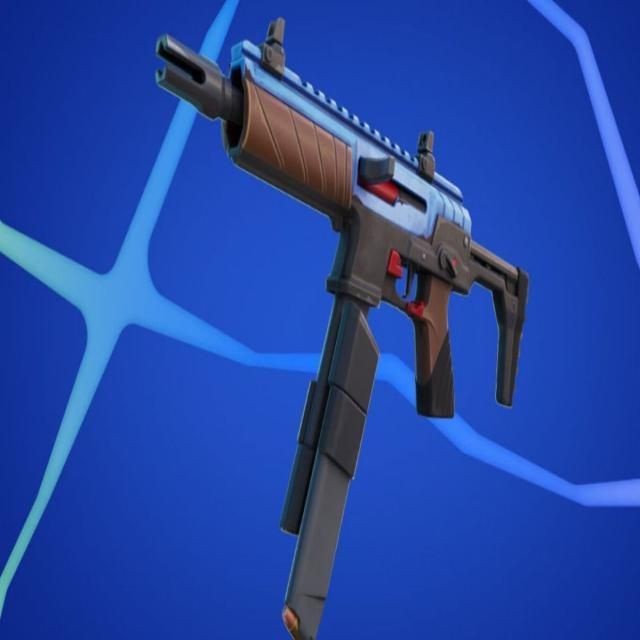smg: (153, 14, 539, 640)
